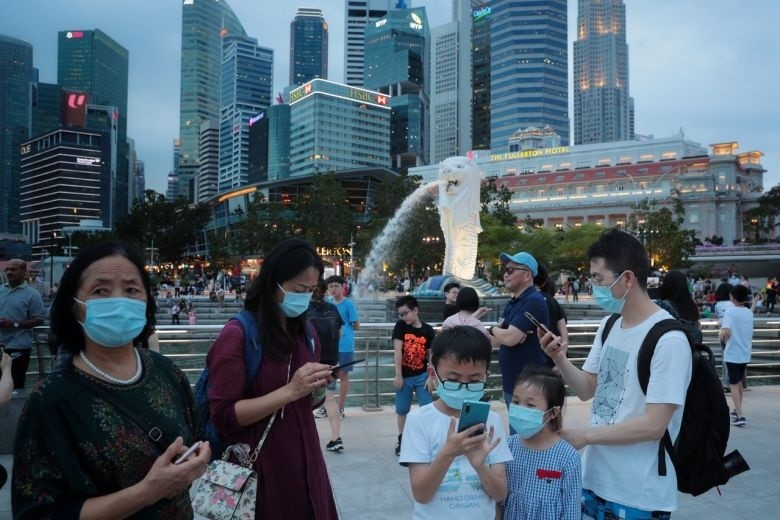face_no_mask: (394, 297, 420, 327), (2, 257, 27, 283), (328, 276, 345, 299)
face_with_mask: (61, 239, 158, 347), (427, 330, 493, 415), (586, 228, 648, 313), (262, 242, 326, 320), (507, 368, 566, 439)
